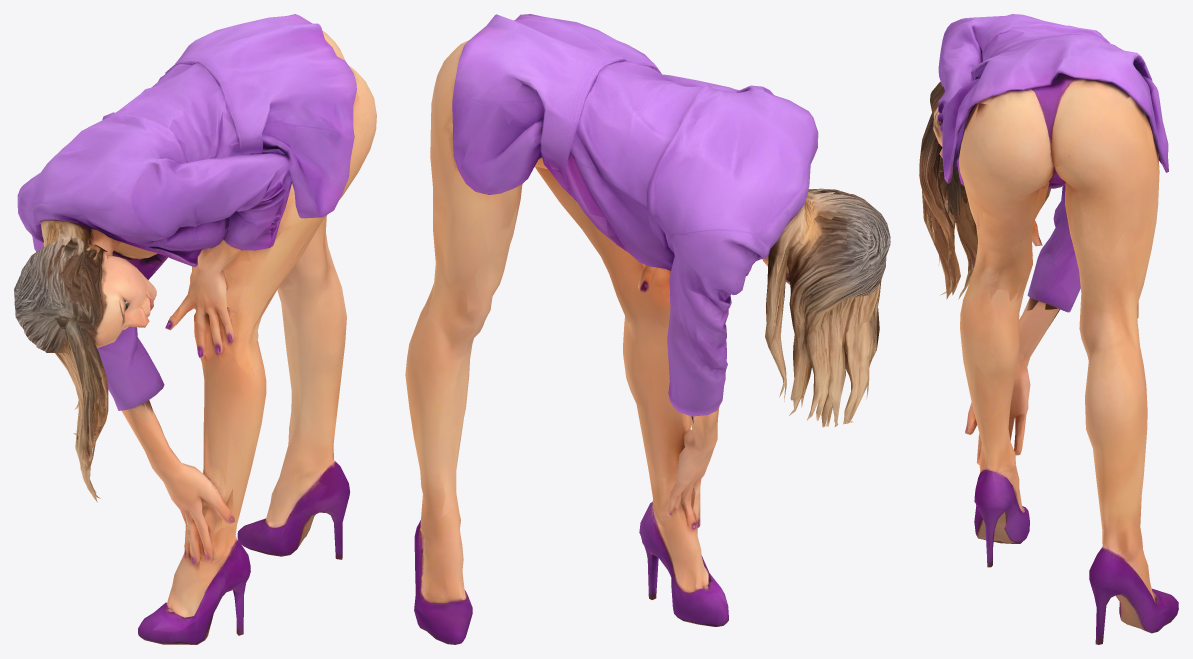
The model's file is woman.glb.
3 renders of one model, left to right at view 1: azimuth 30°, elevation 25°; view 2: azimuth 150°, elevation 25°; view 3: azimuth 270°, elevation 25°, orthographic. The views are drawn at different scales.
Parts seen in each view (by area): view 1: Villa guest; view 2: Villa guest; view 3: Villa guest.
Part boxes in pixels (x1,y1,x2,y2): Villa guest: [14, 14, 376, 644]; Villa guest: [405, 14, 890, 644]; Villa guest: [919, 14, 1178, 644].
Size of the model in its own units: 0.7289 by 1 by 0.4238.
1 material, 1 textured.
